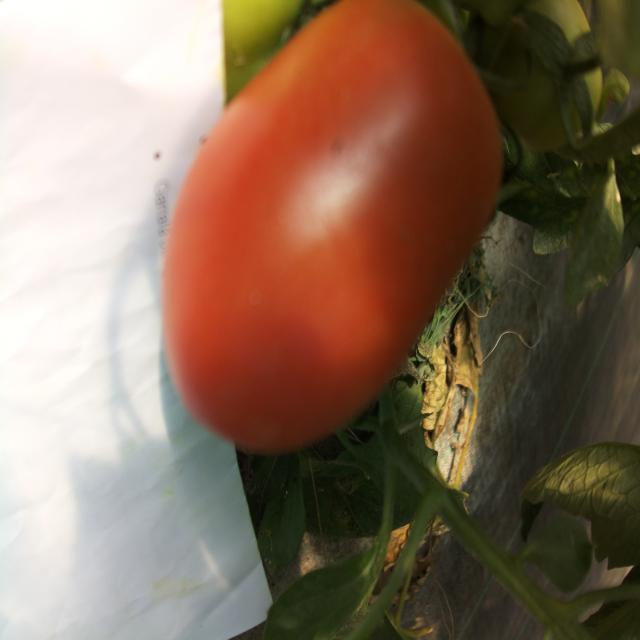kirmizi: (167, 6, 513, 468)
